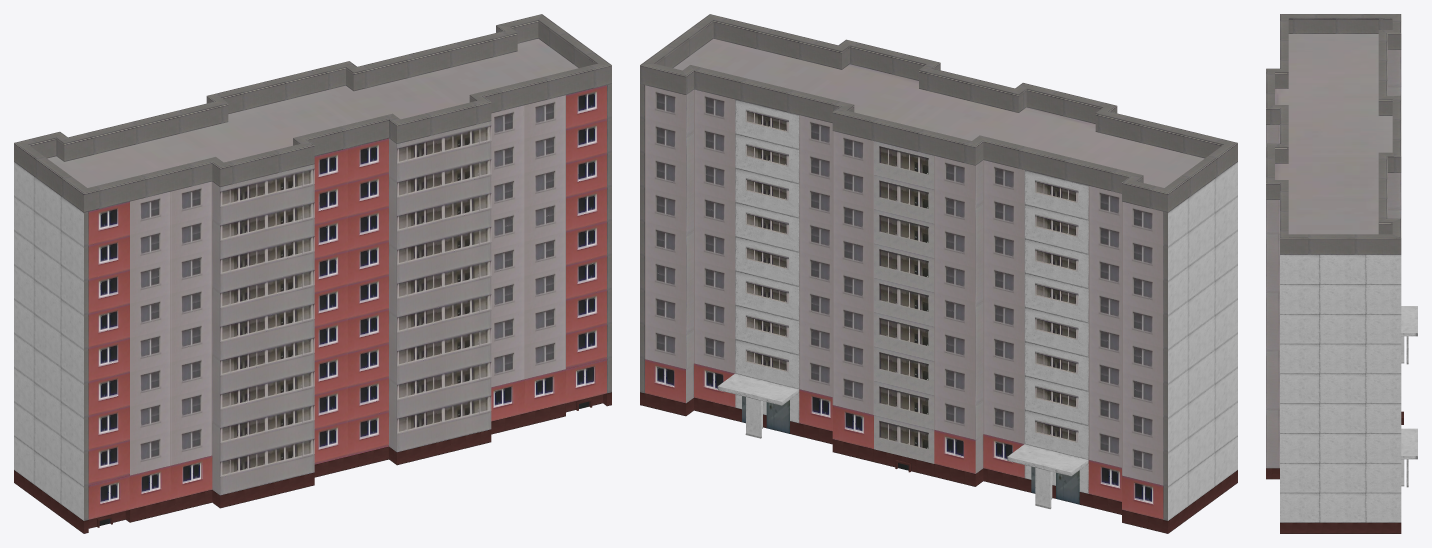
File: panel9.glb
3 renders of one model, left to right at view 1: azimuth 30°, elevation 25°; view 2: azimuth 150°, elevation 25°; view 3: azimuth 270°, elevation 25°, orthographic. The views are drawn at different scales.
Visible parts, largest first — view 1: Object_2, Object_4, Object_6, Object_3, Object_7, Object_5; view 2: Object_6, Object_9, Object_3, Object_7, Object_2, Object_10, Object_4, Object_5, Object_8; view 3: Object_7, Object_2, Object_3, Object_5.
Part boxes in pixels (x1=…): Object_2: x1=47, y1=38, x2=578, y2=495; Object_4: x1=88, y1=85, x2=606, y2=525; Object_6: x1=130, y1=95, x2=565, y2=475; Object_3: x1=14, y1=14, x2=611, y2=520; Object_7: x1=14, y1=162, x2=83, y2=520; Object_5: x1=14, y1=392, x2=611, y2=533; Object_6: x1=645, y1=85, x2=1163, y2=485; Object_9: x1=735, y1=99, x2=1088, y2=459; Object_3: x1=640, y1=14, x2=1237, y2=520; Object_7: x1=717, y1=162, x2=1237, y2=520; Object_2: x1=673, y1=38, x2=1204, y2=473; Object_10: x1=874, y1=141, x2=934, y2=463; Object_4: x1=645, y1=359, x2=1163, y2=519; Object_5: x1=640, y1=392, x2=1237, y2=533; Object_8: x1=742, y1=396, x2=1079, y2=504; Object_7: x1=1280, y1=254, x2=1417, y2=522; Object_2: x1=1266, y1=34, x2=1401, y2=468; Object_3: x1=1266, y1=14, x2=1401, y2=254; Object_5: x1=1266, y1=411, x2=1403, y2=533.
Size of the model in its own units: 44.4 by 27.33 by 12.7.
9 materials, 9 textured.
